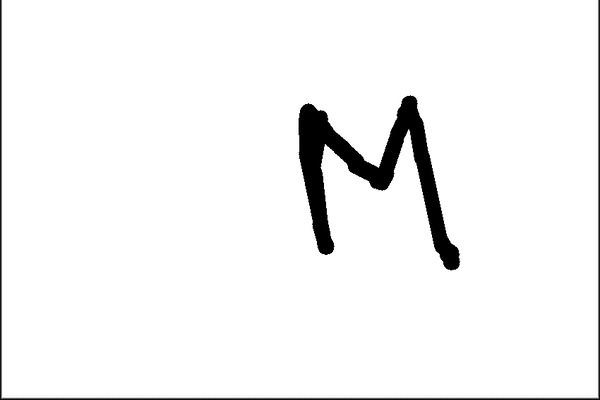M: (297, 92, 462, 270)
